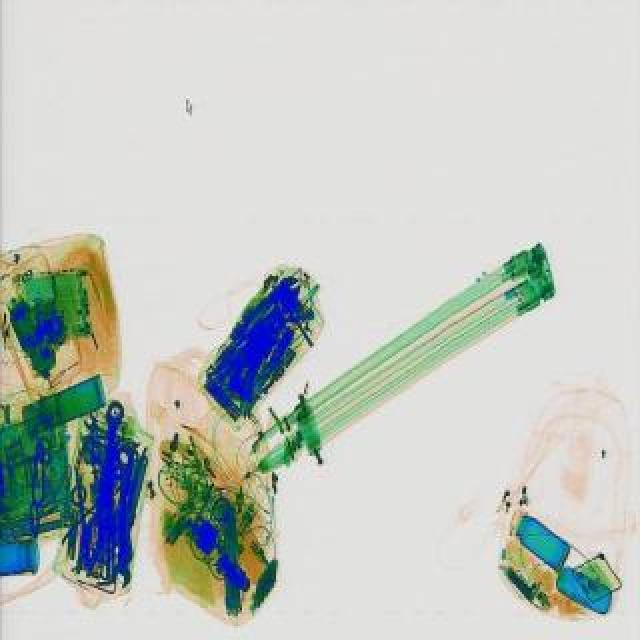scissors: (108, 446, 134, 588)
wrench: (64, 404, 138, 484)
